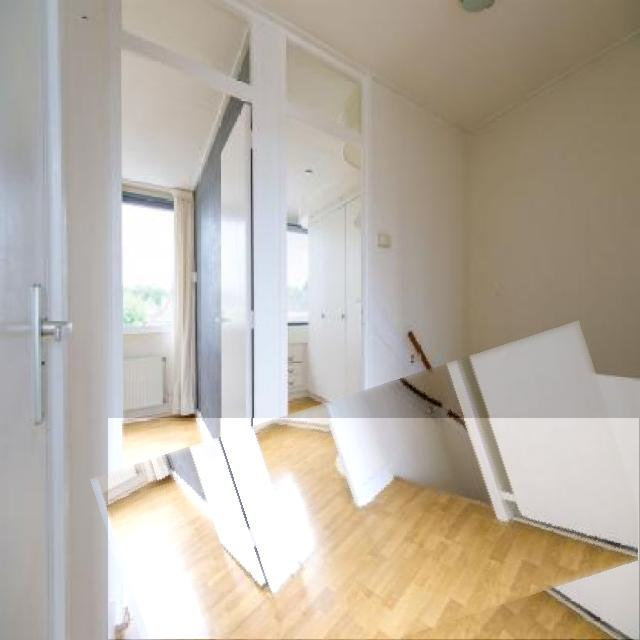floor: (108, 419, 639, 640)
